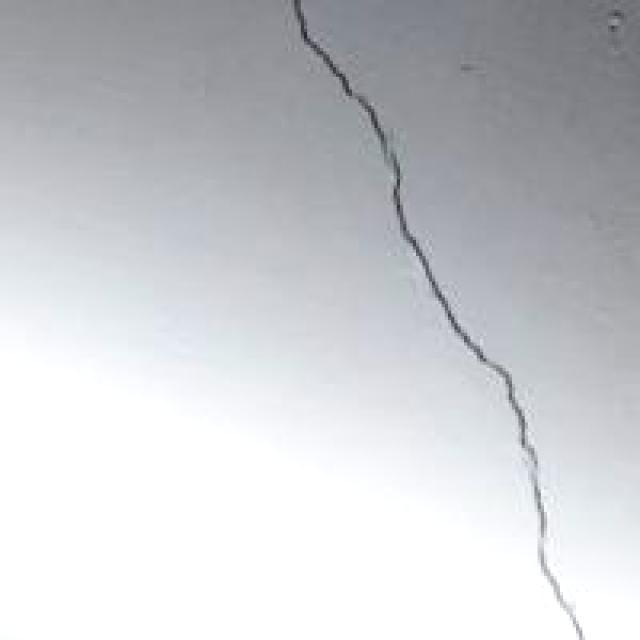crack: (286, 0, 588, 640)
